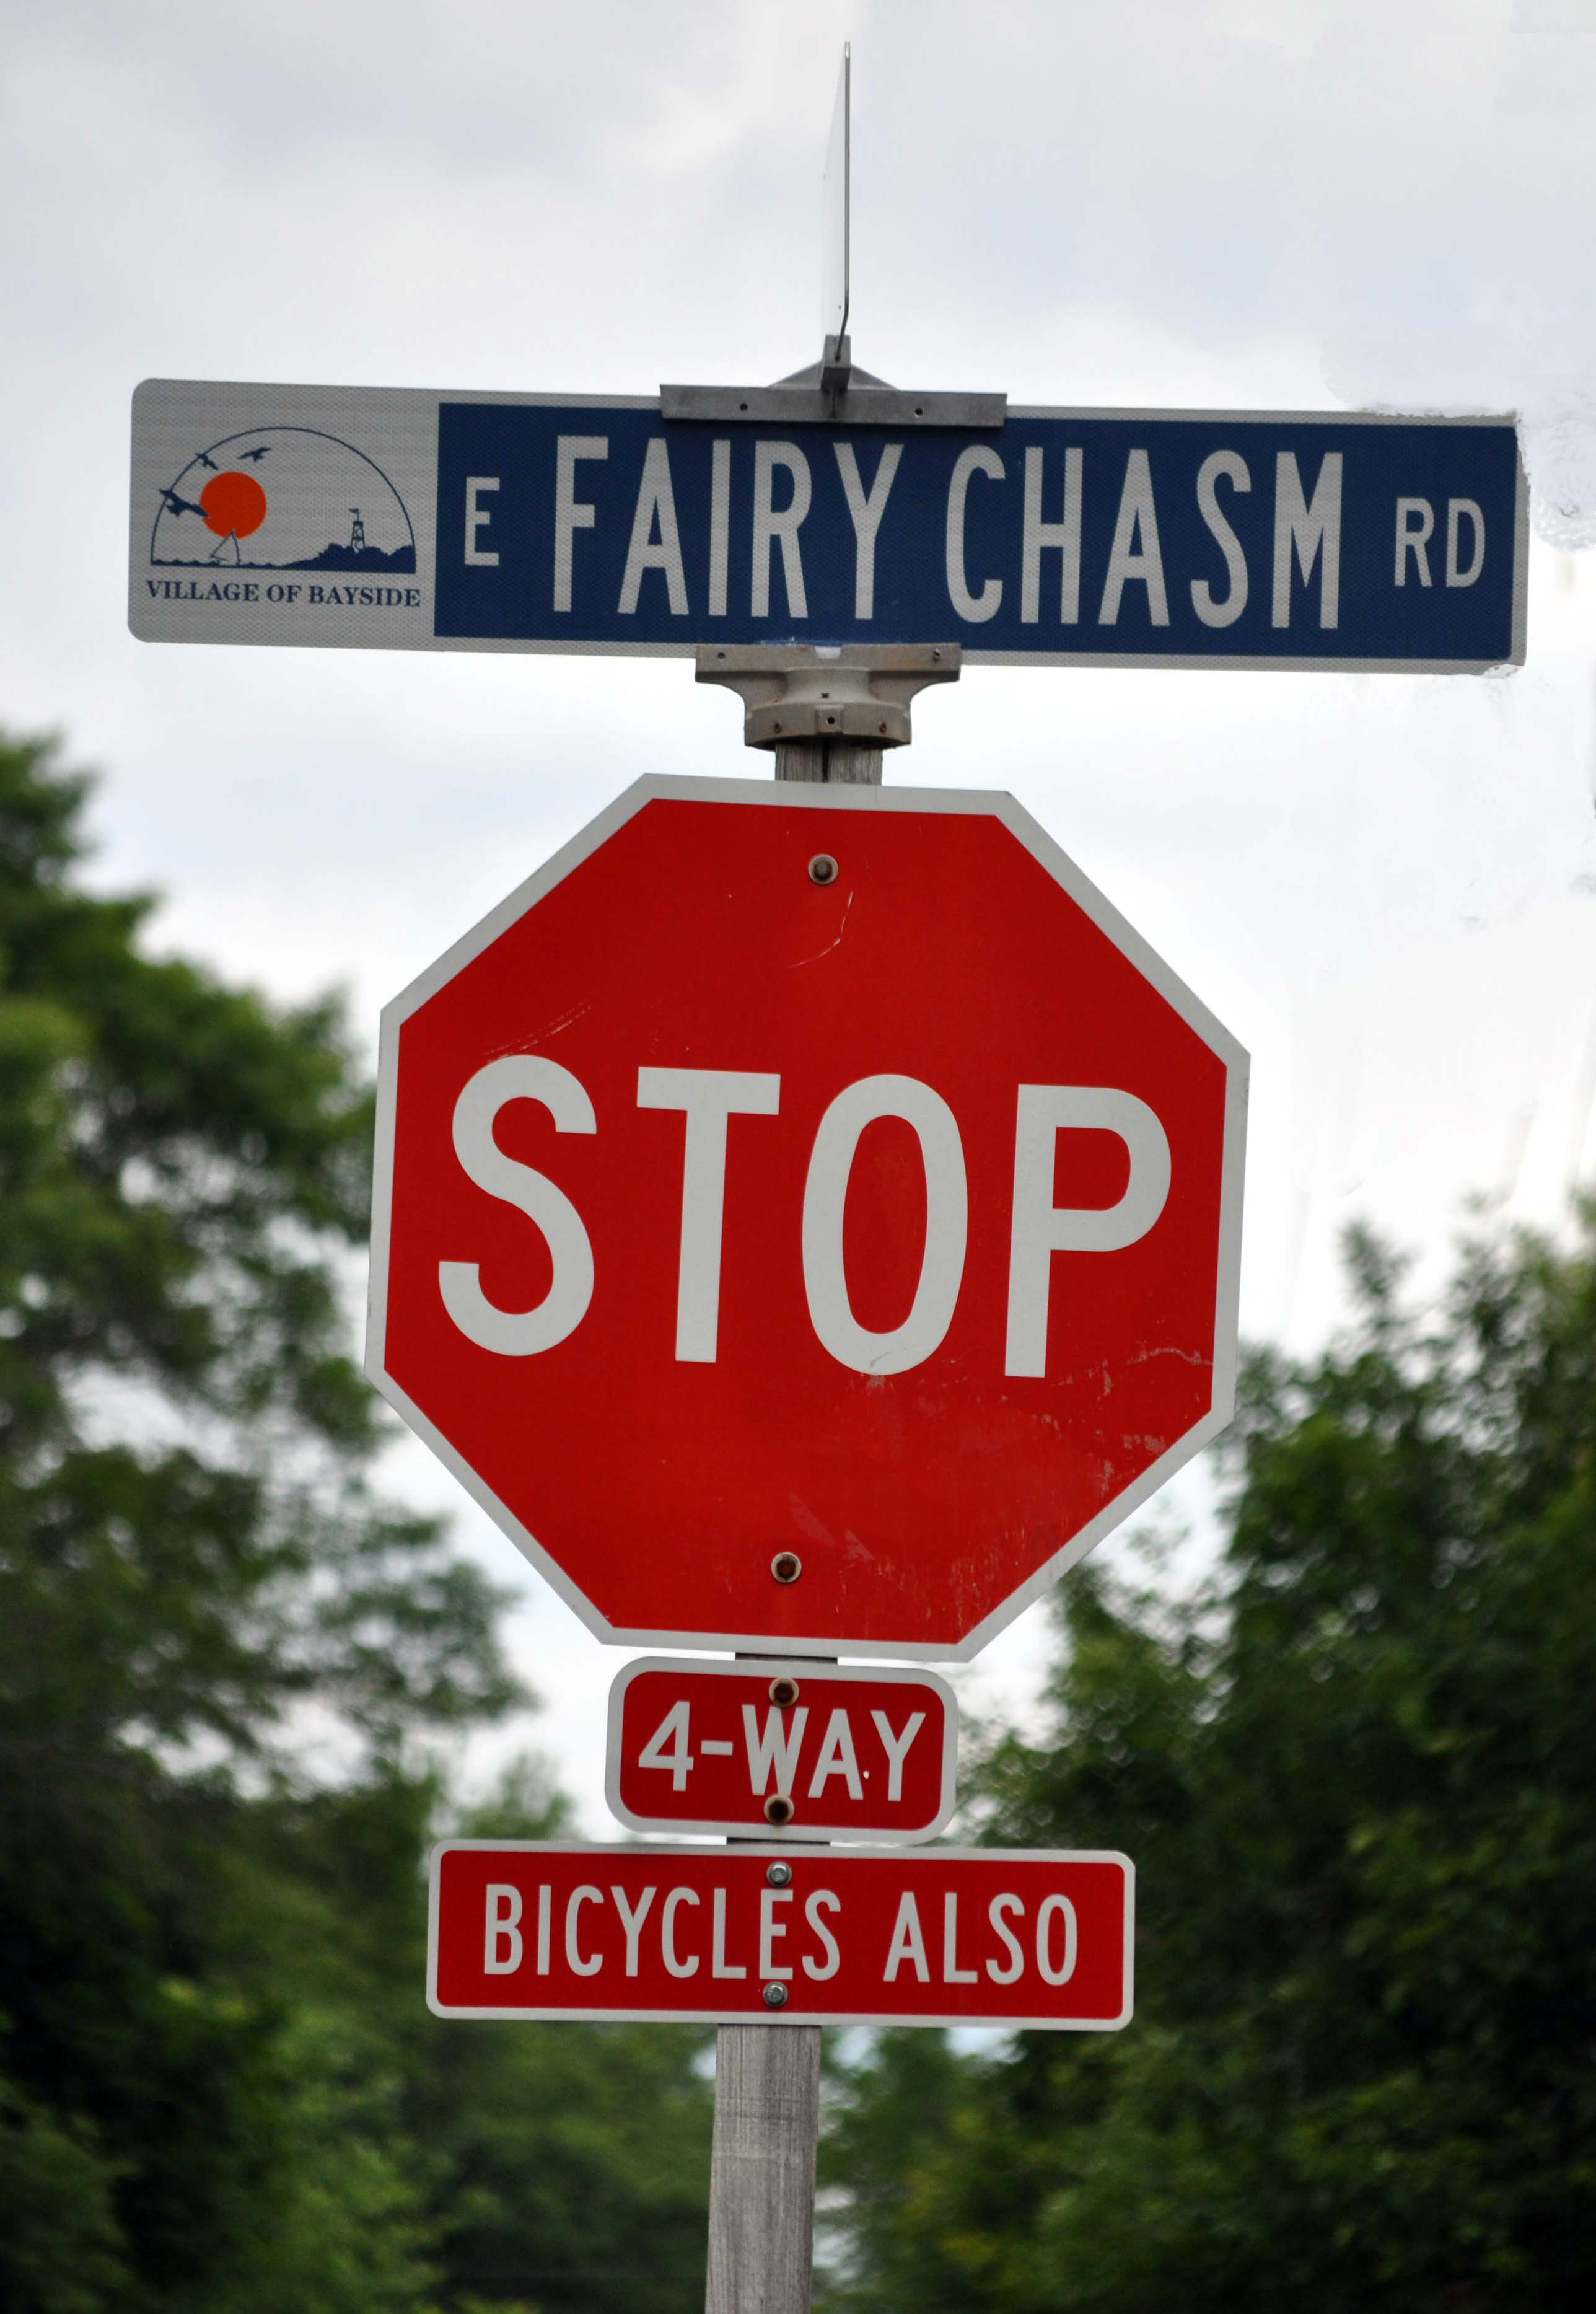stopsign: (364, 793, 1253, 1648)
